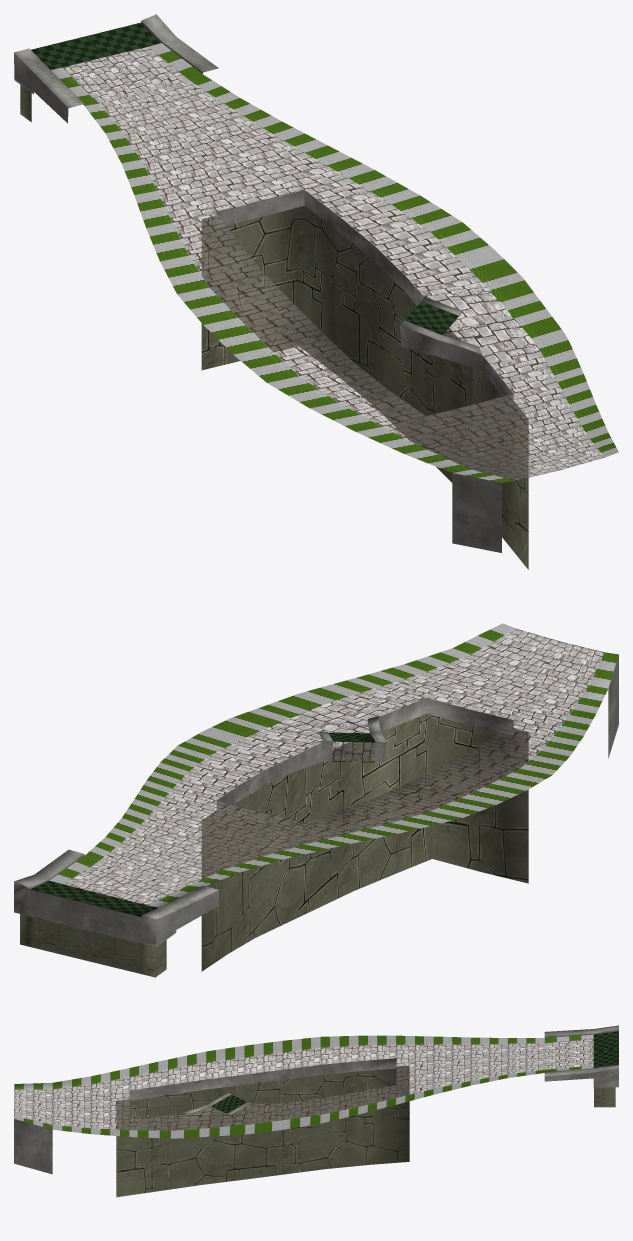
File: road_normal.glb
3 views of the same model, one above another, from view 1: azimuth 30°, elevation 25°; view 2: azimuth 150°, elevation 25°; view 3: azimuth 270°, elevation 25° (orthographic). The views are drawn at different scales.
Parts seen in each view (by area): view 1: stktex_generic_cobbleStoneA.png__, stktex_generic_aztekWall_a.png__, stk_generic_borderDarkGreenA.png__, stktex_generic_concreteA.png__, stkflag_greenCheckBorard_a.png__; view 2: stktex_generic_aztekWall_a.png__, stktex_generic_cobbleStoneA.png__, stk_generic_borderDarkGreenA.png__, stktex_generic_concreteA.png__, stkflag_greenCheckBorard_a.png__; view 3: stktex_generic_aztekWall_a.png__, stktex_generic_cobbleStoneA.png__, stk_generic_borderDarkGreenA.png__, stktex_generic_concreteA.png__, stkflag_greenCheckBorard_a.png__.
Boxes of the visible parts, x1=… form: stktex_generic_cobbleStoneA.png__: x1=63, y1=47, x2=604, y2=480; stktex_generic_aztekWall_a.png__: x1=20, y1=85, x2=528, y2=569; stk_generic_borderDarkGreenA.png__: x1=51, y1=43, x2=618, y2=482; stktex_generic_concreteA.png__: x1=14, y1=14, x2=513, y2=552; stkflag_greenCheckBorard_a.png__: x1=31, y1=22, x2=458, y2=334; stktex_generic_aztekWall_a.png__: x1=20, y1=714, x2=528, y2=977; stktex_generic_cobbleStoneA.png__: x1=64, y1=628, x2=604, y2=905; stk_generic_borderDarkGreenA.png__: x1=49, y1=623, x2=618, y2=907; stktex_generic_concreteA.png__: x1=14, y1=655, x2=618, y2=946; stkflag_greenCheckBorard_a.png__: x1=30, y1=732, x2=375, y2=917; stktex_generic_aztekWall_a.png__: x1=116, y1=1065, x2=615, y2=1197; stktex_generic_cobbleStoneA.png__: x1=14, y1=1039, x2=593, y2=1130; stk_generic_borderDarkGreenA.png__: x1=14, y1=1034, x2=593, y2=1138; stktex_generic_concreteA.png__: x1=14, y1=1025, x2=618, y2=1174; stkflag_greenCheckBorard_a.png__: x1=211, y1=1031, x2=618, y2=1113.
Size of the model in its own units: 38.43 by 32.92 by 108.
6 materials, 6 textured.
